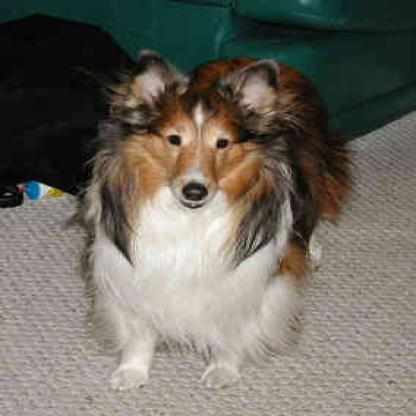Shetland_sheepdog: (56, 43, 363, 394)
